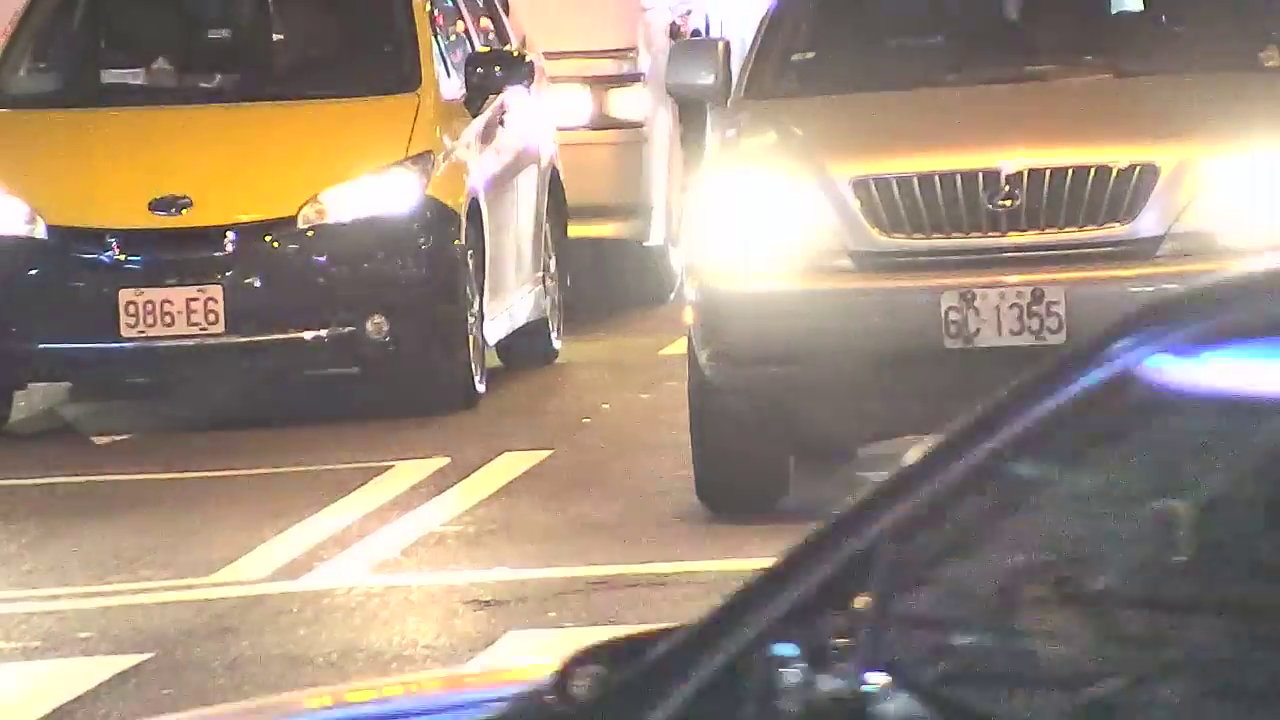plate: (941, 283, 1069, 349), (115, 287, 226, 336)
